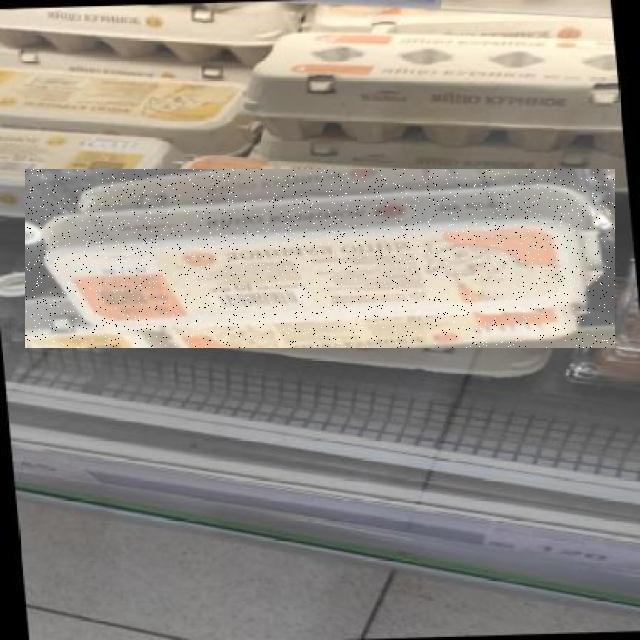Eggs: (25, 169, 615, 348)
